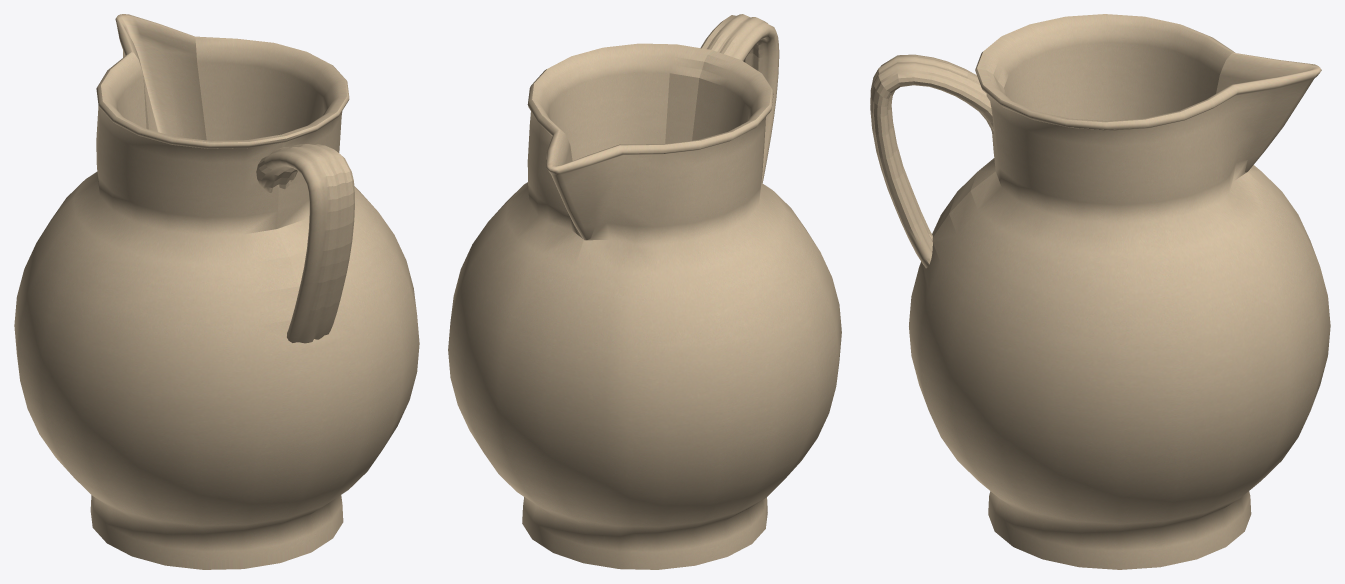
File: roman_jug.glb
The picture shows the model from 3 angles, left to right: view 1: azimuth 30°, elevation 25°; view 2: azimuth 150°, elevation 25°; view 3: azimuth 270°, elevation 25°; orthographic projection. The views are drawn at different scales.
Visible parts, largest first — view 1: pSphere2; view 2: pSphere2; view 3: pSphere2.
Part boxes in pixels (x1,y1,x2,y2): pSphere2: [14, 14, 419, 569]; pSphere2: [448, 14, 841, 569]; pSphere2: [870, 14, 1330, 569].
Size of the model in its own units: 26.2 by 31.12 by 28.59.
1 material, 1 textured.
